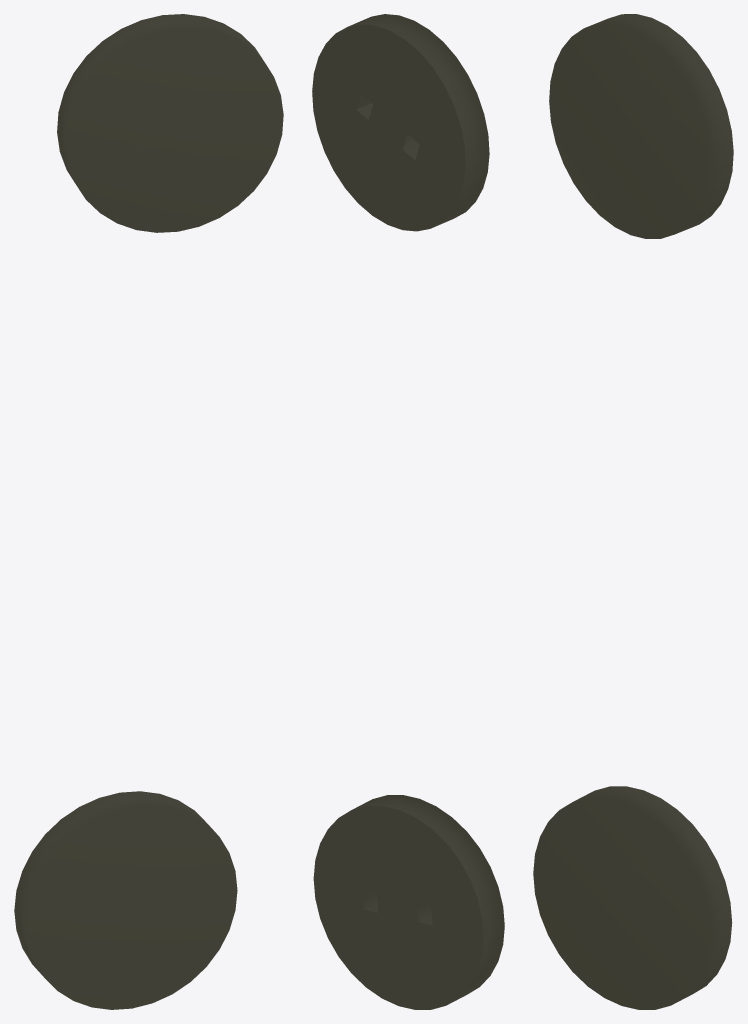
Rendered from MM__BadeDyNatSkjorteKNapper22.glb.
3 views of the same model, side by side, from view 1: azimuth 30°, elevation 25°; view 2: azimuth 150°, elevation 25°; view 3: azimuth 330°, elevation 25° (orthographic). The views are drawn at different scales.
Parts seen in each view (by area): view 1: 03_Skjorte_KNapperSjortr.001; view 2: 03_Skjorte_KNapperSjortr, 03_Skjorte_KNapperSjortr.001; view 3: 03_Skjorte_KNapperSjortr.001.
Boxes of the visible parts, x1,y1,x2,y2 form: 03_Skjorte_KNapperSjortr.001: (14,14,283,1009); 03_Skjorte_KNapperSjortr: (312,24,483,1009); 03_Skjorte_KNapperSjortr.001: (348,14,504,1004); 03_Skjorte_KNapperSjortr.001: (533,14,733,1009).
Size of the model in its own units: 0.0582 by 0.2455 by 0.0264.
1 material, 1 textured.
